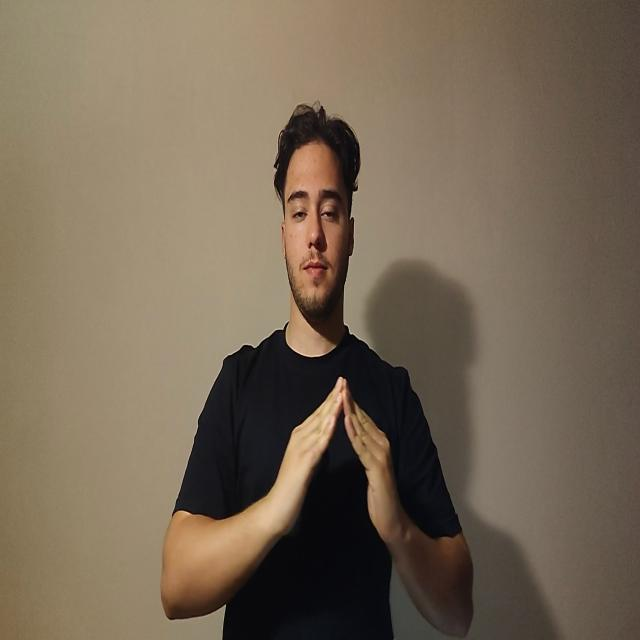house: (269, 378, 407, 550)
